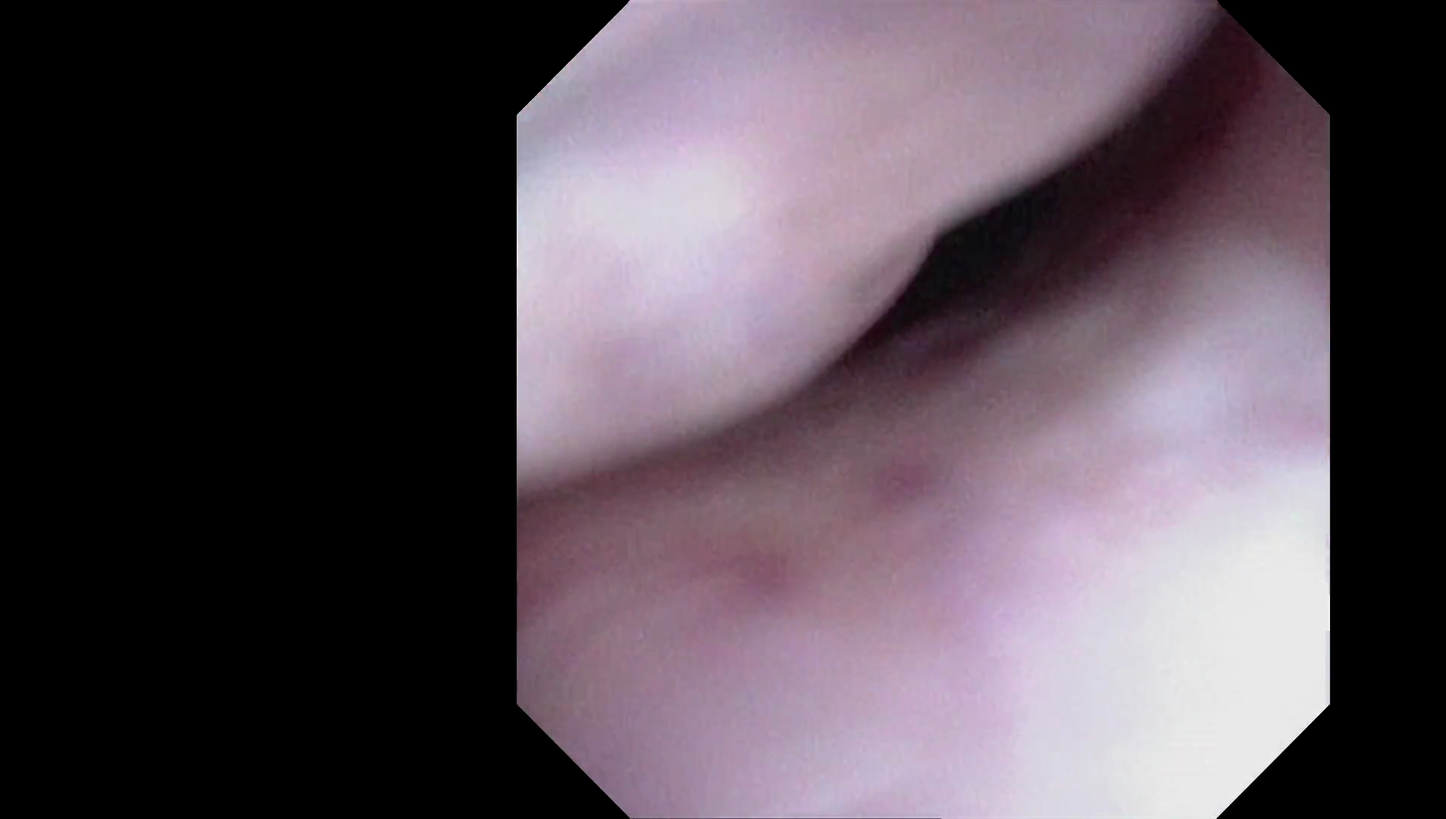close_wall: (876, 416, 1324, 812)
next: (797, 102, 1156, 398)
